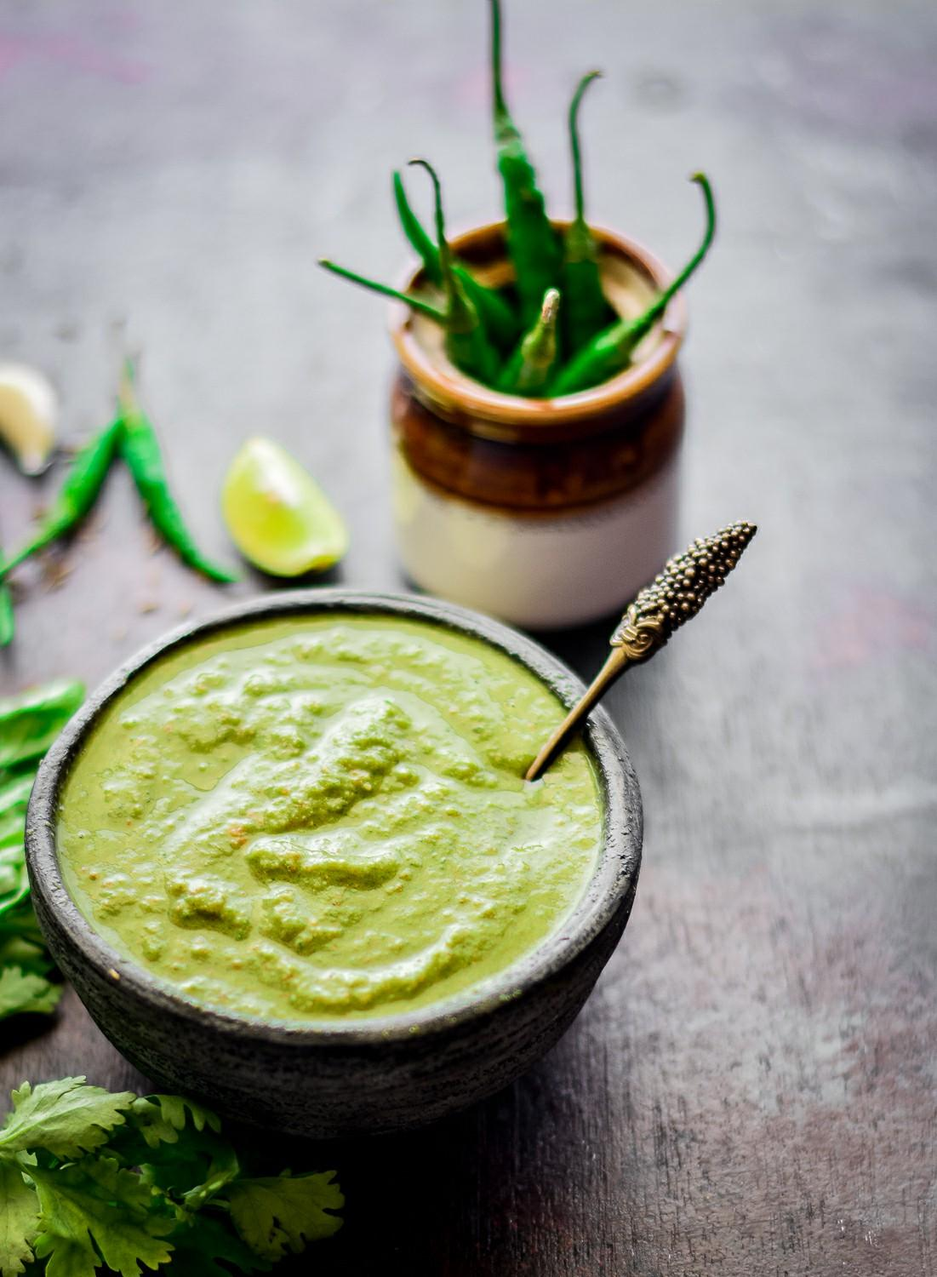GreenChutney: (55, 614, 608, 1030)
